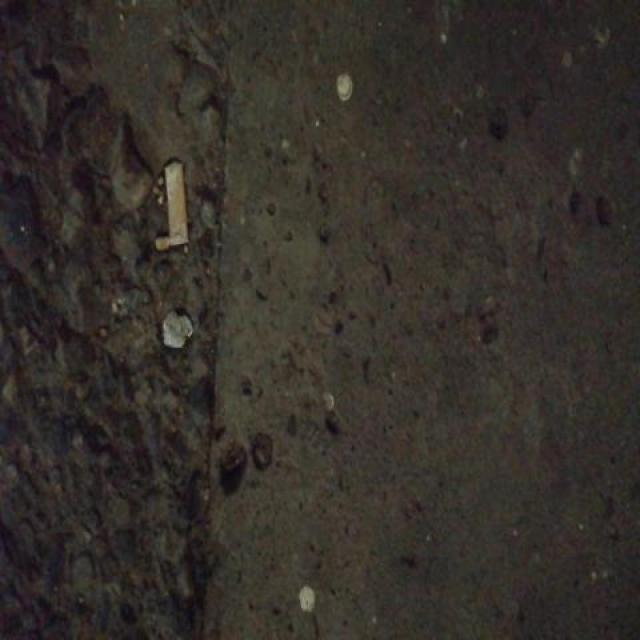non-organic waste: (160, 157, 193, 250)
